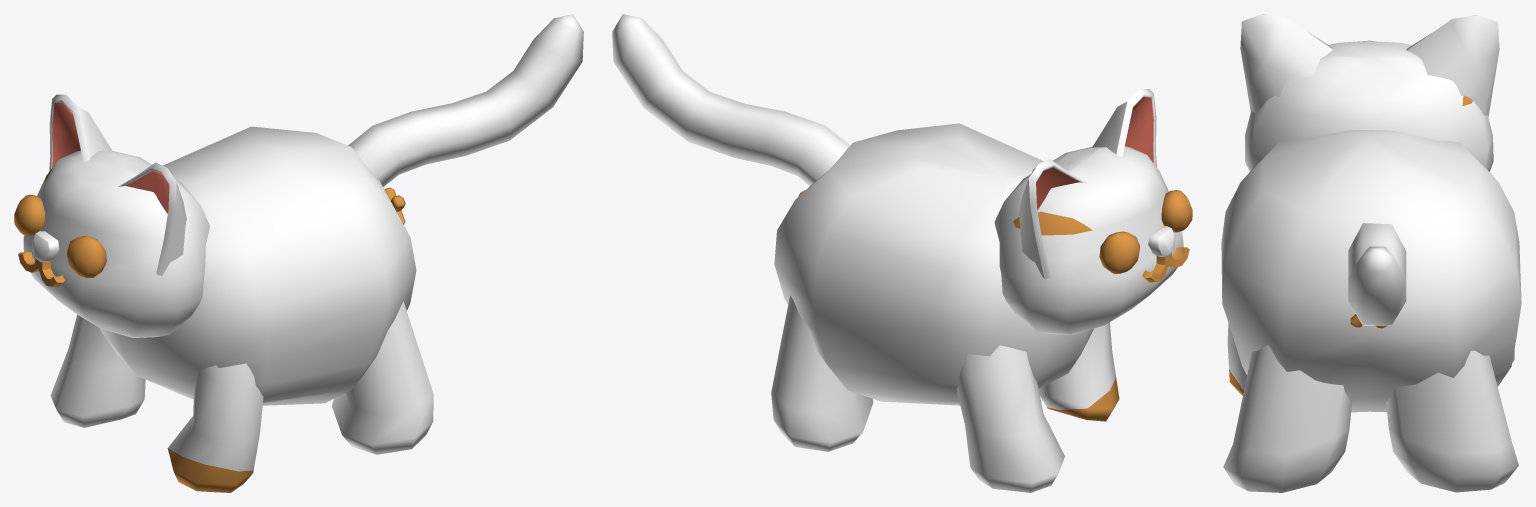
Rendered from exploding cat.fbx.
3 renders of one model, left to right at view 1: azimuth 30°, elevation 25°; view 2: azimuth 150°, elevation 25°; view 3: azimuth 270°, elevation 25°, orthographic. The views are drawn at different scales.
Parts seen in each view (by area): view 1: cat_red1, cat_red; view 2: cat_red1, cat_red; view 3: cat_red1.
Part boxes in pixels (x1,y1,x2,y2): cat_red1: (23, 14, 583, 492); cat_red: (14, 194, 106, 287); cat_red1: (612, 14, 1183, 492); cat_red: (1099, 190, 1192, 282); cat_red1: (1221, 14, 1521, 492).
Bounding box in the file's own units: 5.35 × 3.15 × 2.38.
